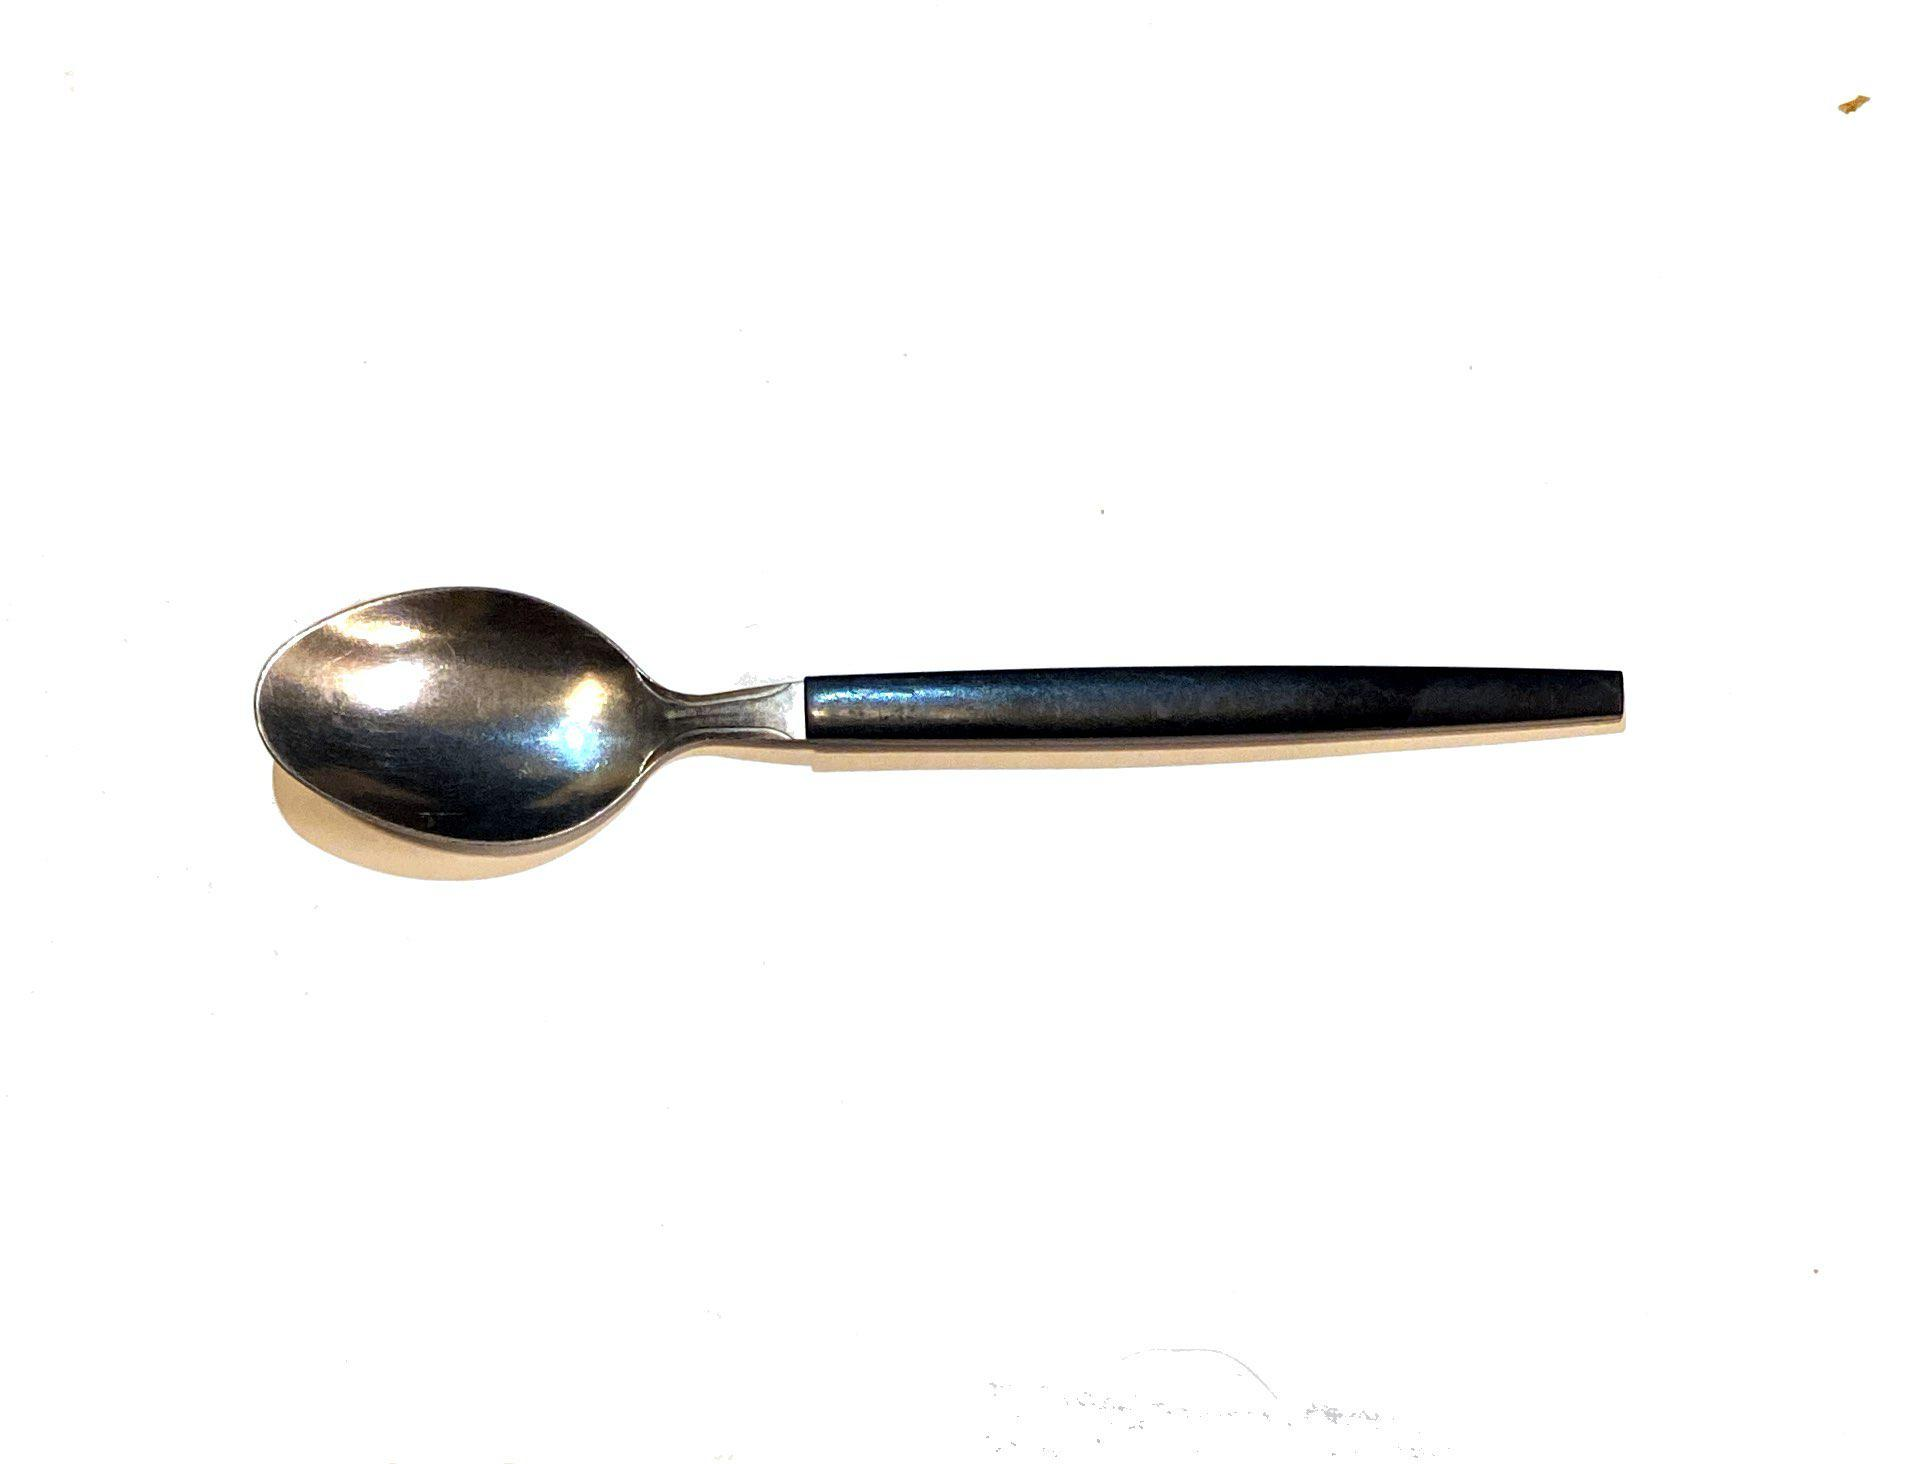Spoon: (211, 487, 1685, 933)
